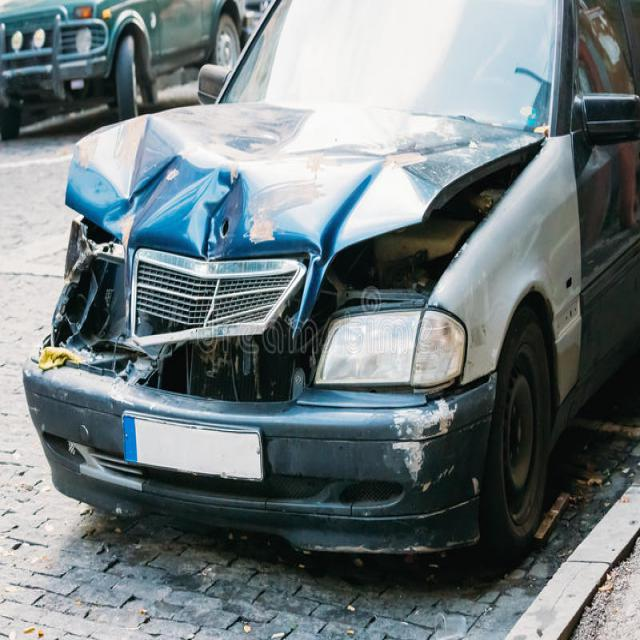bonnet-dent: (64, 58, 519, 288)
front-bumper-dent: (263, 366, 528, 578)
